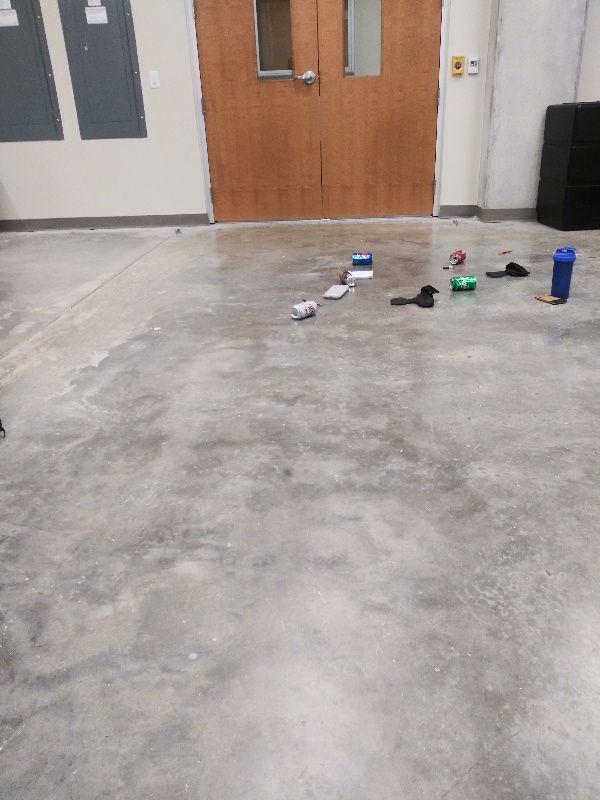can: (288, 300, 321, 320), (447, 274, 477, 291), (337, 268, 359, 288), (350, 251, 376, 267), (447, 248, 467, 266)
